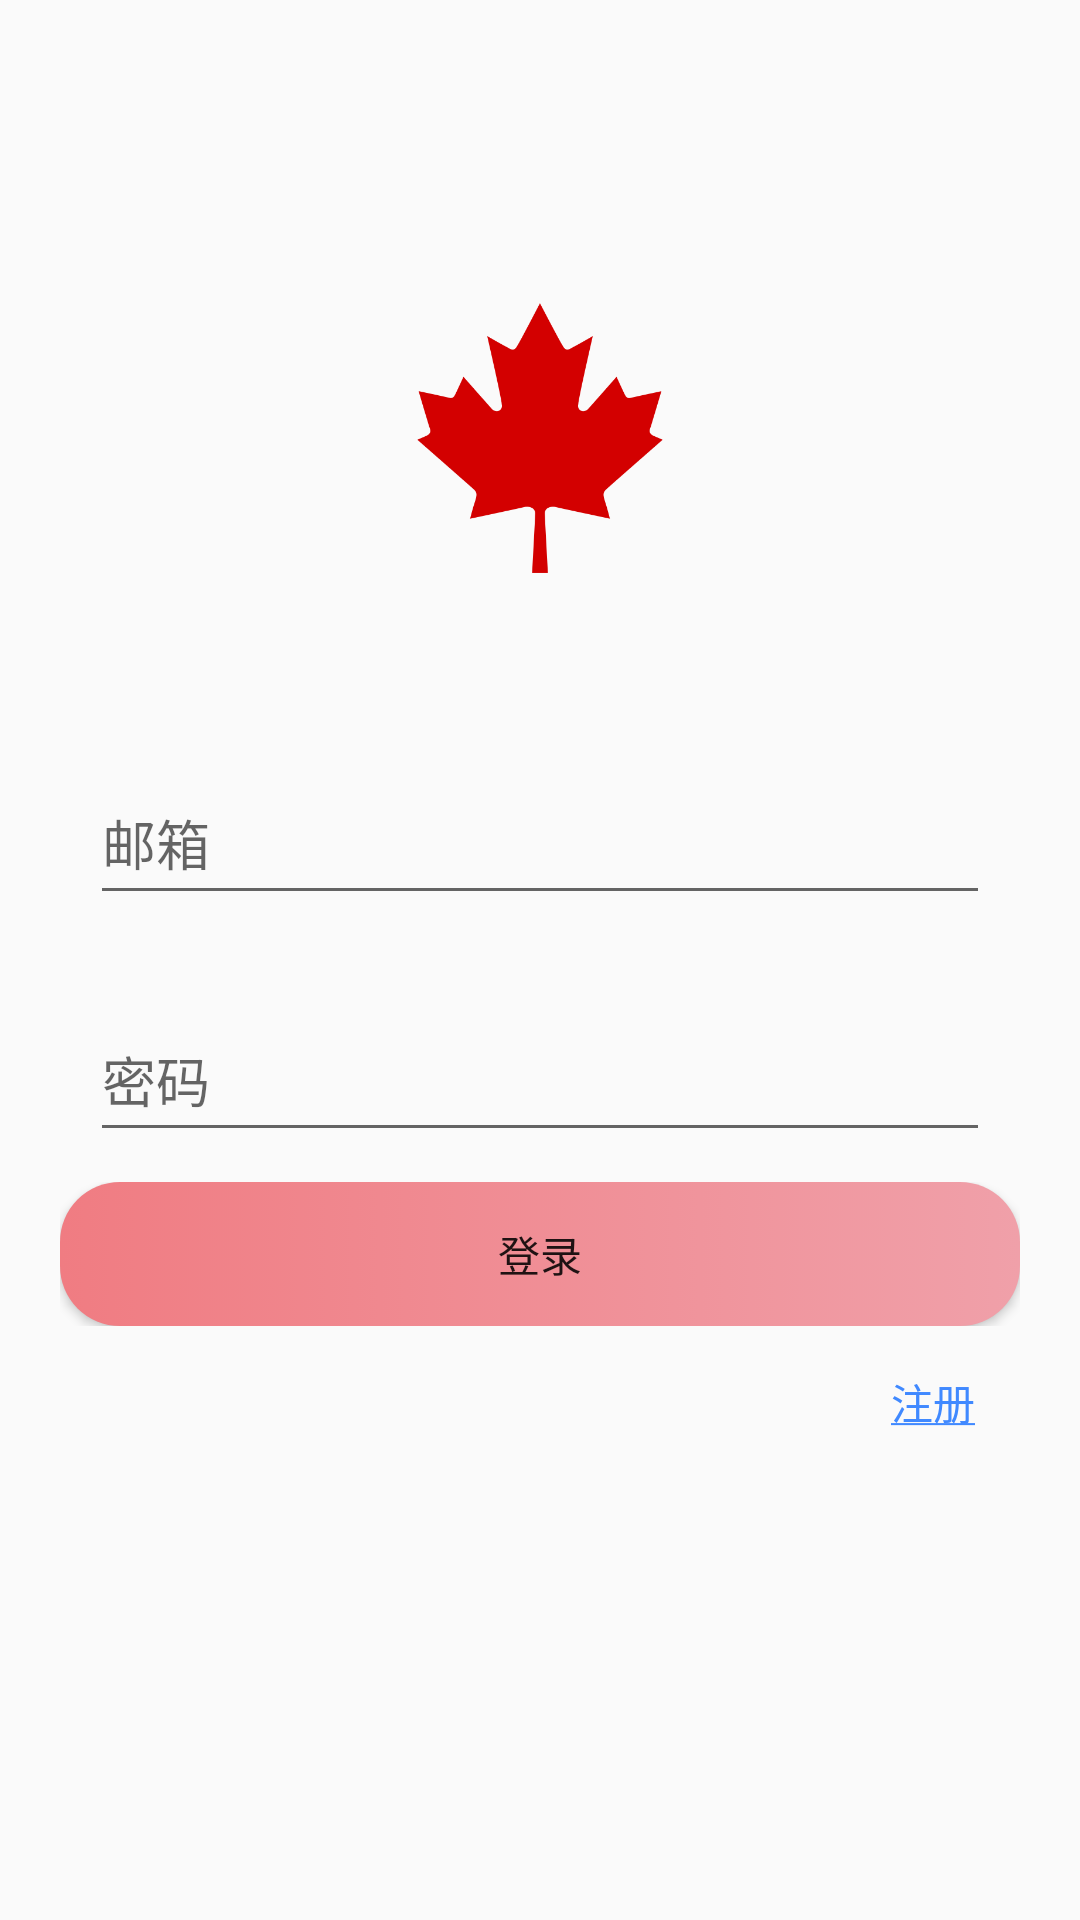

Screen size 1080w x 1920h. Icon name, then its box in pixels as BBox(x1, y1, x2, y2):
maple leaf: BBox(417, 303, 663, 573)
